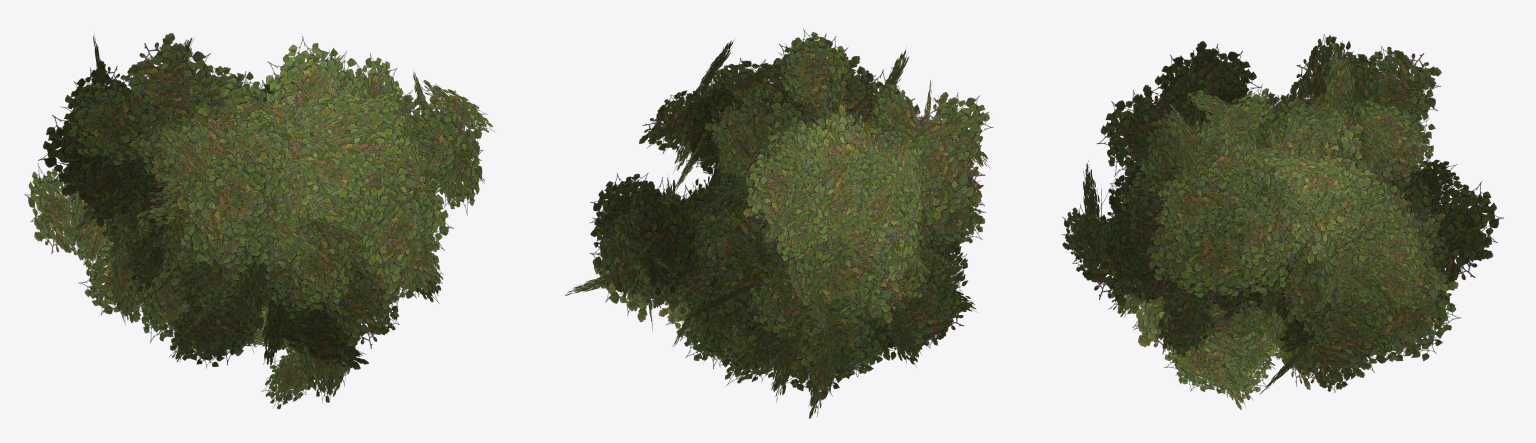
File: bush2_leaves.glb
3 views of the same model, side by side, from view 1: azimuth 30°, elevation 25°; view 2: azimuth 150°, elevation 25°; view 3: azimuth 270°, elevation 25° (orthographic). The views are drawn at different scales.
Visible parts, largest first — view 1: leaves; view 2: leaves; view 3: leaves.
Part boxes in pixels (x1=…): leaves: x1=24, y1=33, x2=495, y2=409; leaves: x1=565, y1=29, x2=993, y2=418; leaves: x1=1062, y1=34, x2=1503, y2=409.
Bounding box in the file's own units: 1.85 × 1.79 × 2.17.
1 material, 1 textured.
